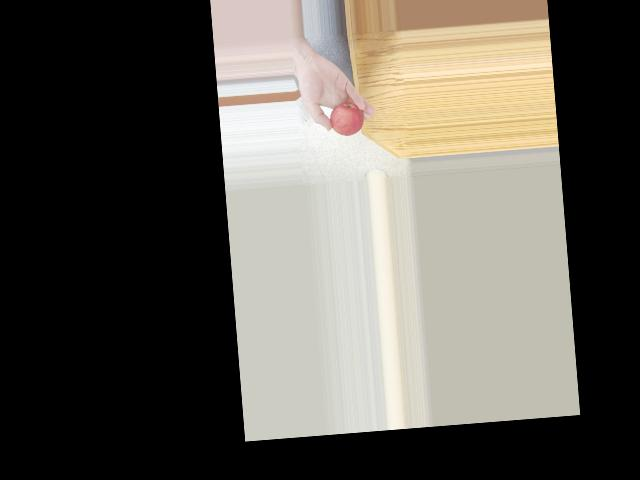apple: (323, 99, 364, 138)
